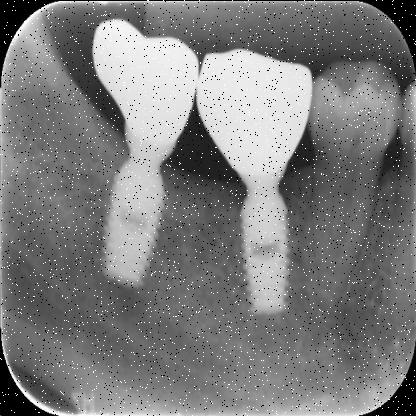Bicon: (90, 152, 176, 306), (219, 176, 300, 315)
